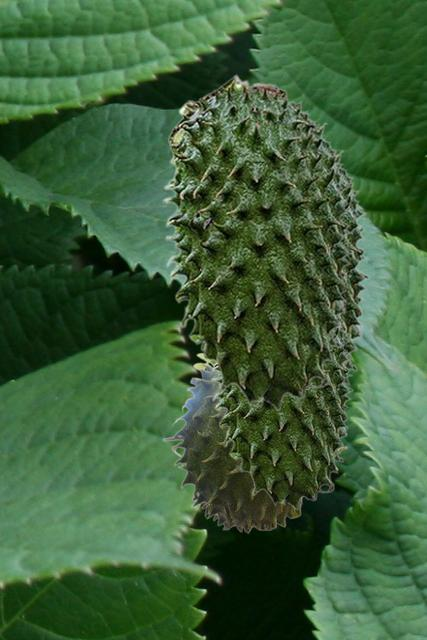guyabano: (162, 73, 354, 410), (192, 135, 370, 404), (162, 352, 347, 533), (209, 316, 353, 509)
